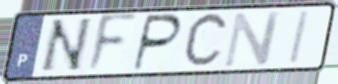C: (180, 10, 231, 72)
F: (84, 11, 139, 77)
I: (286, 9, 312, 66)
N: (221, 9, 284, 69), (36, 16, 95, 75)
P: (130, 13, 184, 73)
